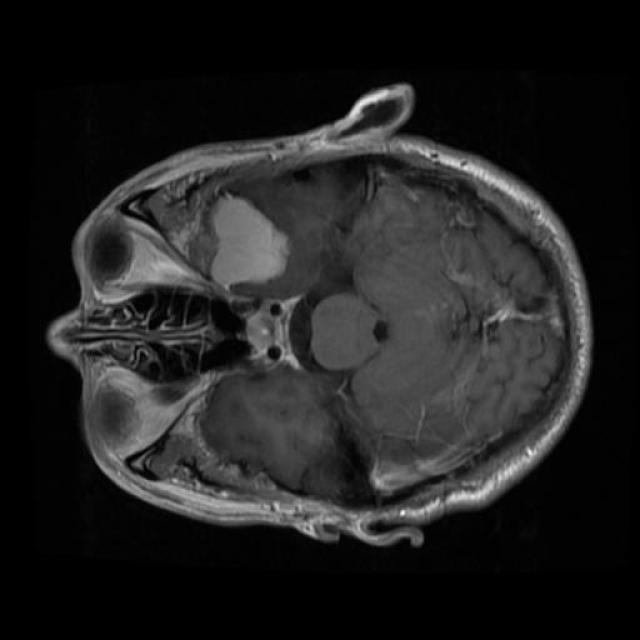Meningioma: (210, 194, 289, 288)
